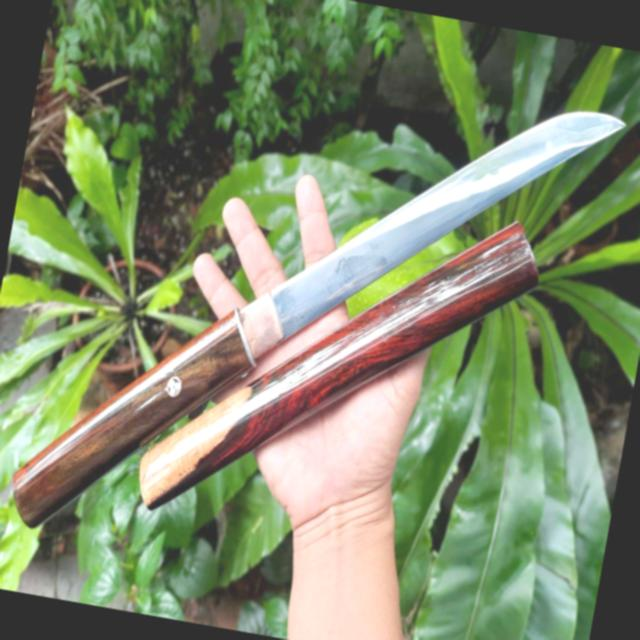short sword: (145, 49, 637, 640)
